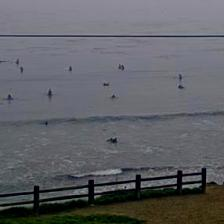surfer: (107, 137, 117, 143), (46, 88, 52, 96), (177, 85, 185, 90), (7, 94, 13, 100), (110, 94, 116, 99), (15, 58, 20, 64), (178, 74, 182, 81), (102, 82, 109, 86), (68, 66, 73, 71), (20, 67, 24, 73), (44, 121, 48, 126), (118, 63, 121, 69), (122, 64, 125, 70), (1, 60, 6, 62)
